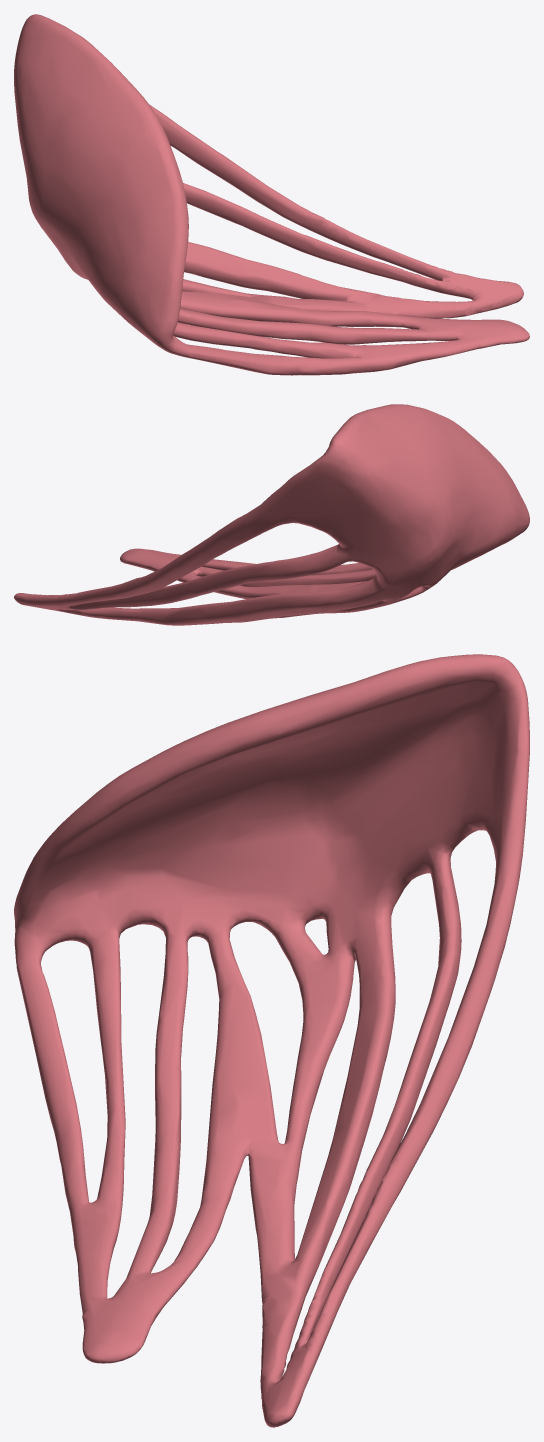
3 renders of one model, top to bottom at view 1: azimuth 30°, elevation 25°; view 2: azimuth 150°, elevation 25°; view 3: azimuth 270°, elevation 25°, orthographic. The views are drawn at different scales.
Visible parts, largest first — view 1: 三尖瓣隔侧尖; view 2: 三尖瓣隔侧尖; view 3: 三尖瓣隔侧尖.
Part boxes in pixels (left/top/right/bottom): 三尖瓣隔侧尖: left=14, top=14, right=529, bottom=375; 三尖瓣隔侧尖: left=14, top=404, right=529, bottom=625; 三尖瓣隔侧尖: left=14, top=654, right=529, bottom=1427.
Bounding box in the file's own units: 0.0548 × 0.0368 × 0.0356.
